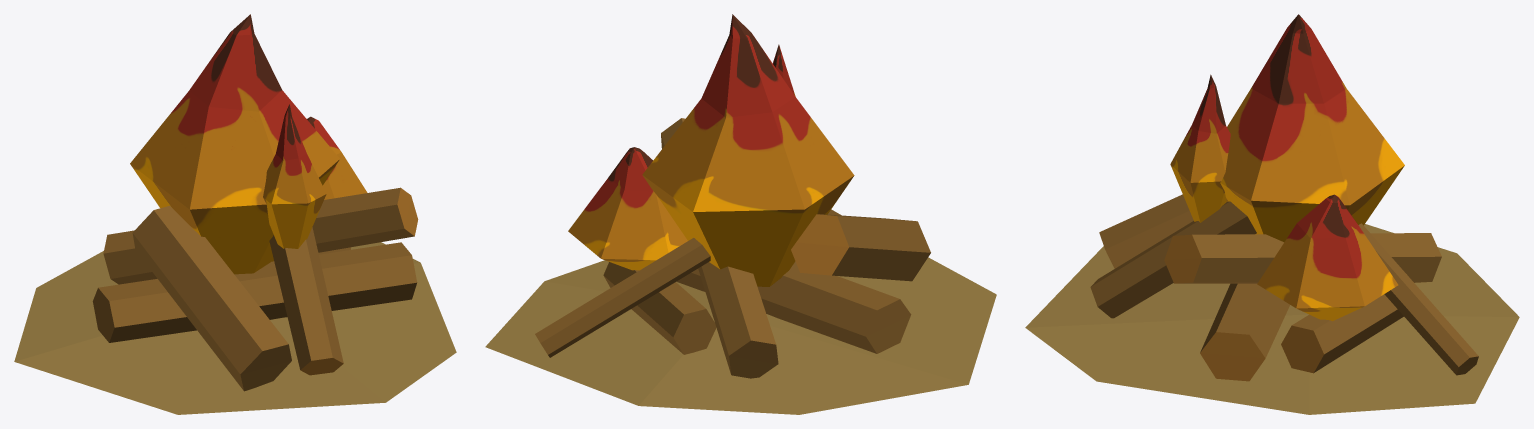
Rendered from SimpleCampfire.fbx.
3 renders of one model, left to right at view 1: azimuth 30°, elevation 25°; view 2: azimuth 150°, elevation 25°; view 3: azimuth 270°, elevation 25°, orthographic. The views are drawn at different scales.
Parts seen in each view (by area): view 1: SimpleCampfre; view 2: SimpleCampfre; view 3: SimpleCampfre.
Boxes of the visible parts, x1,y1,x2,y2 form: SimpleCampfre: (14,14,456,414); SimpleCampfre: (485,14,996,414); SimpleCampfre: (1025,14,1519,414).
Size of the model in its own units: 76.74 by 53.56 by 76.74.
